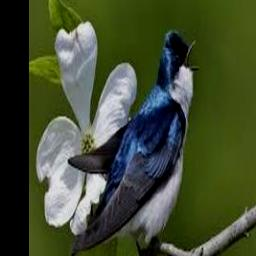Swallow: (68, 29, 199, 256)
